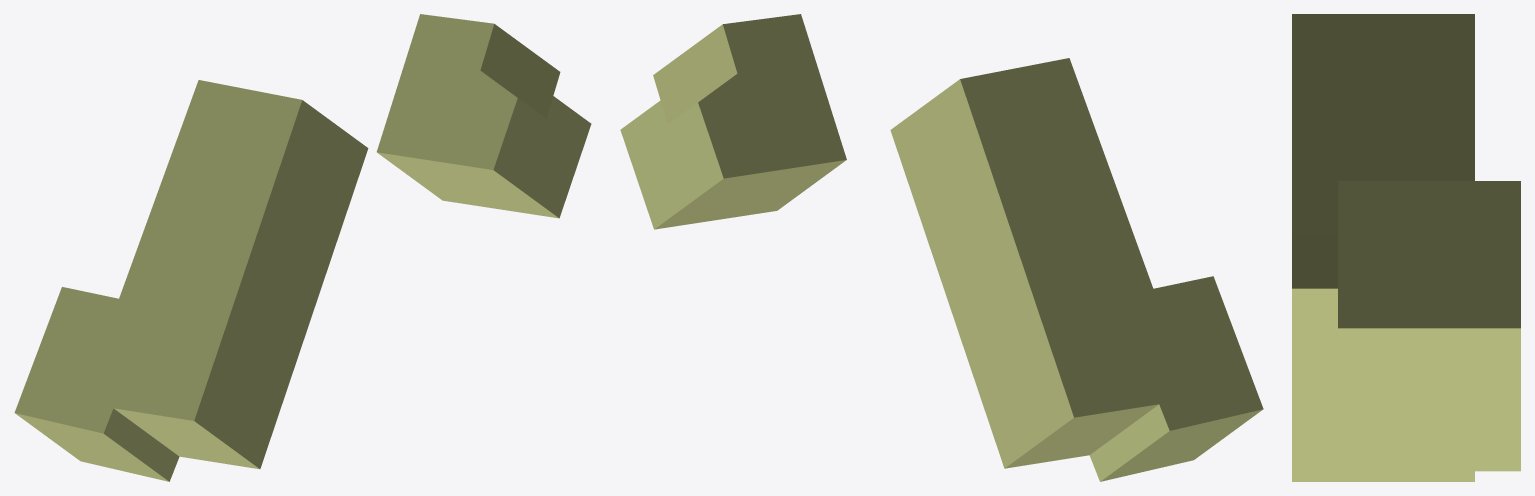
3 views of the same model, side by side, from view 1: azimuth 30°, elevation 25°; view 2: azimuth 150°, elevation 25°; view 3: azimuth 270°, elevation 25° (orthographic). The views are drawn at different scales.
Parts seen in each view (by area): view 1: 0_1_0_0_2_1_0_3_1; view 2: 0_1_0_0_2_1_0_3_1; view 3: 0_1_0_0_2_1_0_3_1.
Boxes of the visible parts, bbox=[...] form: 0_1_0_0_2_1_0_3_1: bbox=[14, 14, 591, 481]; 0_1_0_0_2_1_0_3_1: bbox=[620, 14, 1263, 481]; 0_1_0_0_2_1_0_3_1: bbox=[1292, 14, 1520, 481].
Size of the model in its own units: 27.65 by 17.04 by 7.5.
